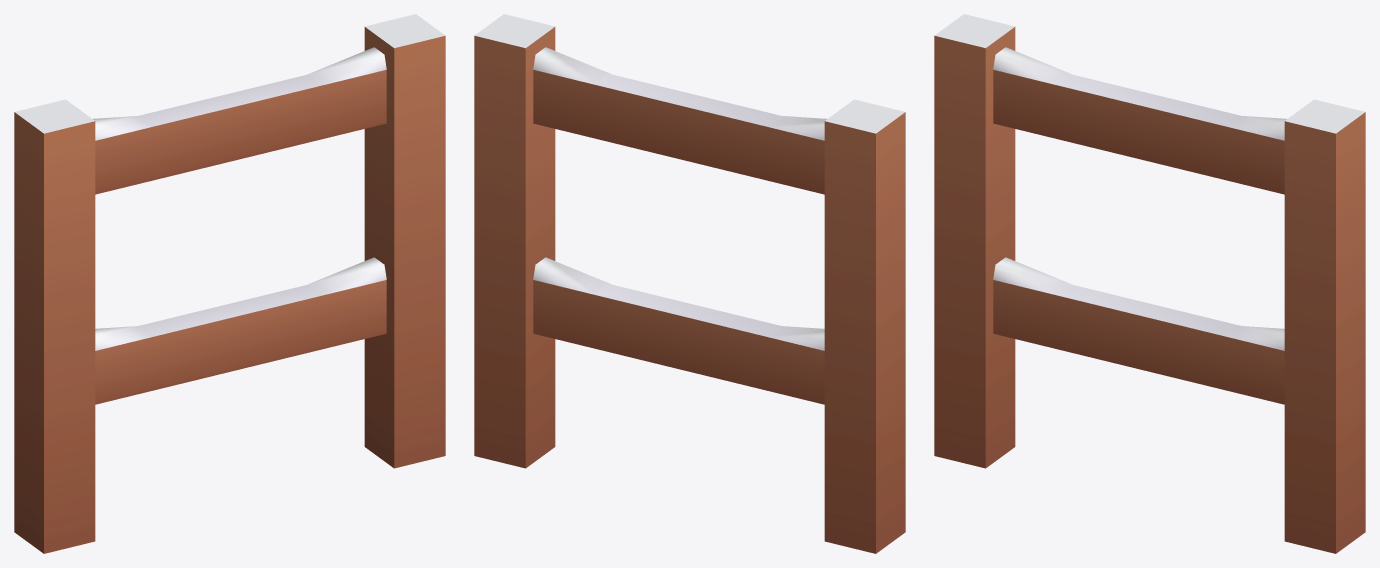
The model's file is kenney-tower-defense-snow-wood-structure-high-part.glb.
3 views of the same model, side by side, from view 1: azimuth 30°, elevation 25°; view 2: azimuth 150°, elevation 25°; view 3: azimuth 330°, elevation 25° (orthographic).
Parts seen in each view (by area): view 1: snow-wood-structure-high-part; view 2: snow-wood-structure-high-part; view 3: snow-wood-structure-high-part.
Part boxes in pixels (left/top/right/bottom): snow-wood-structure-high-part: left=14, top=14, right=445, bottom=553; snow-wood-structure-high-part: left=474, top=14, right=905, bottom=553; snow-wood-structure-high-part: left=934, top=14, right=1365, bottom=553.
Size of the model in its own units: 1 by 1 by 0.1279.
1 material, 1 textured.
